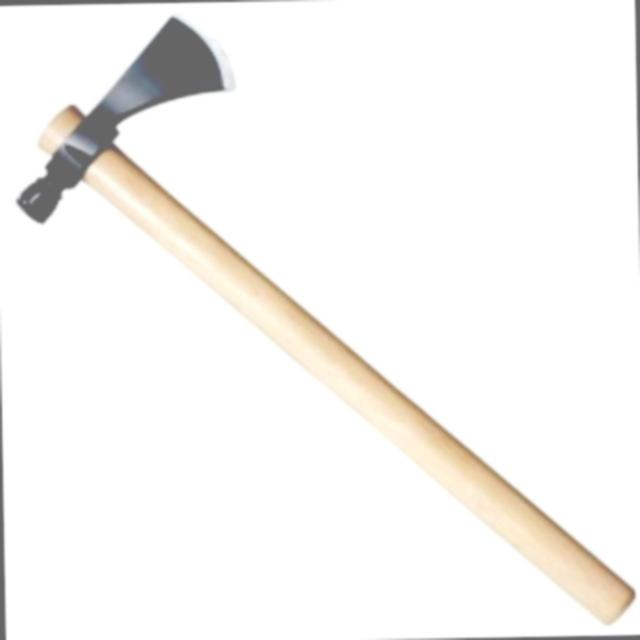ax: (8, 0, 637, 635)
